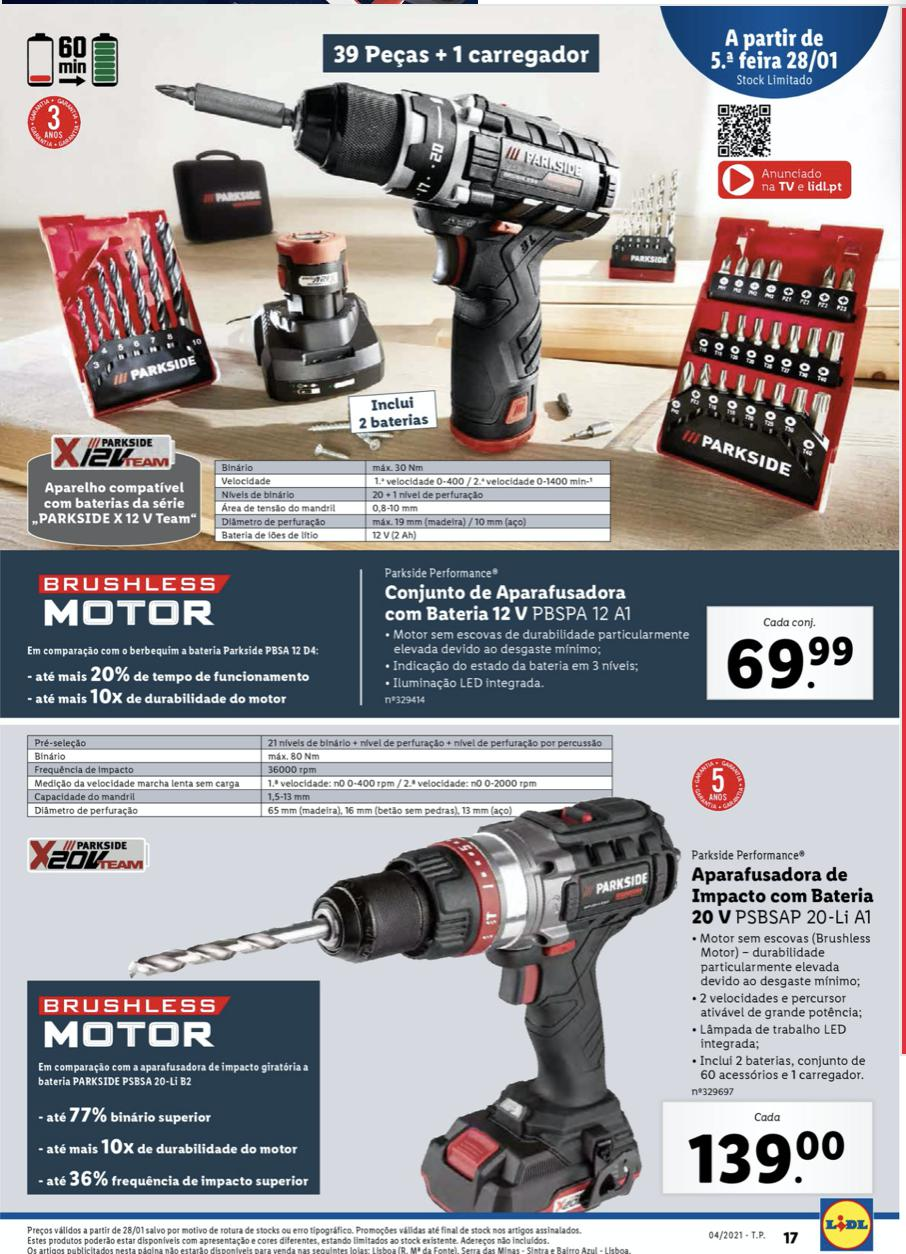name: (688, 862, 884, 931), (382, 582, 634, 624)
price: (685, 1124, 849, 1190), (721, 632, 862, 698)
product: (15, 20, 890, 715), (7, 735, 892, 1212)
